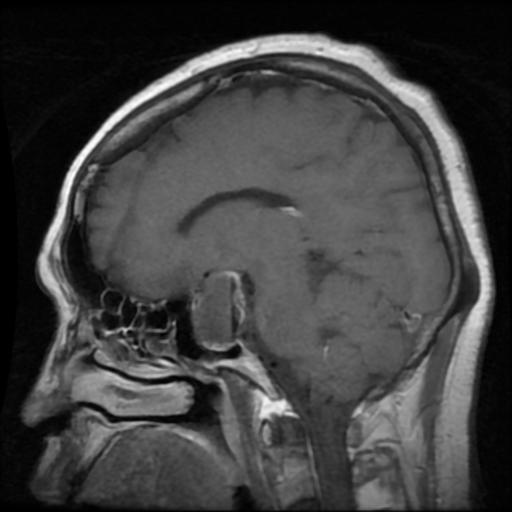Pituirity_tumour: (194, 272, 244, 347)
